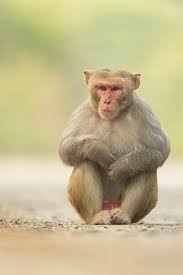monkey: (32, 38, 174, 234)
